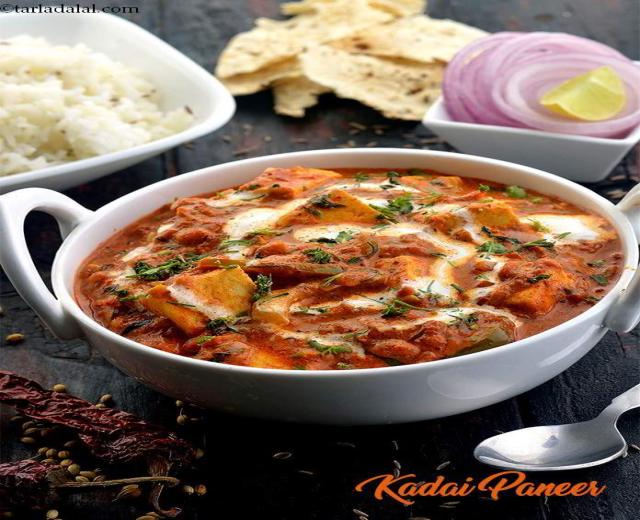kadai paneer: (76, 151, 635, 423)
